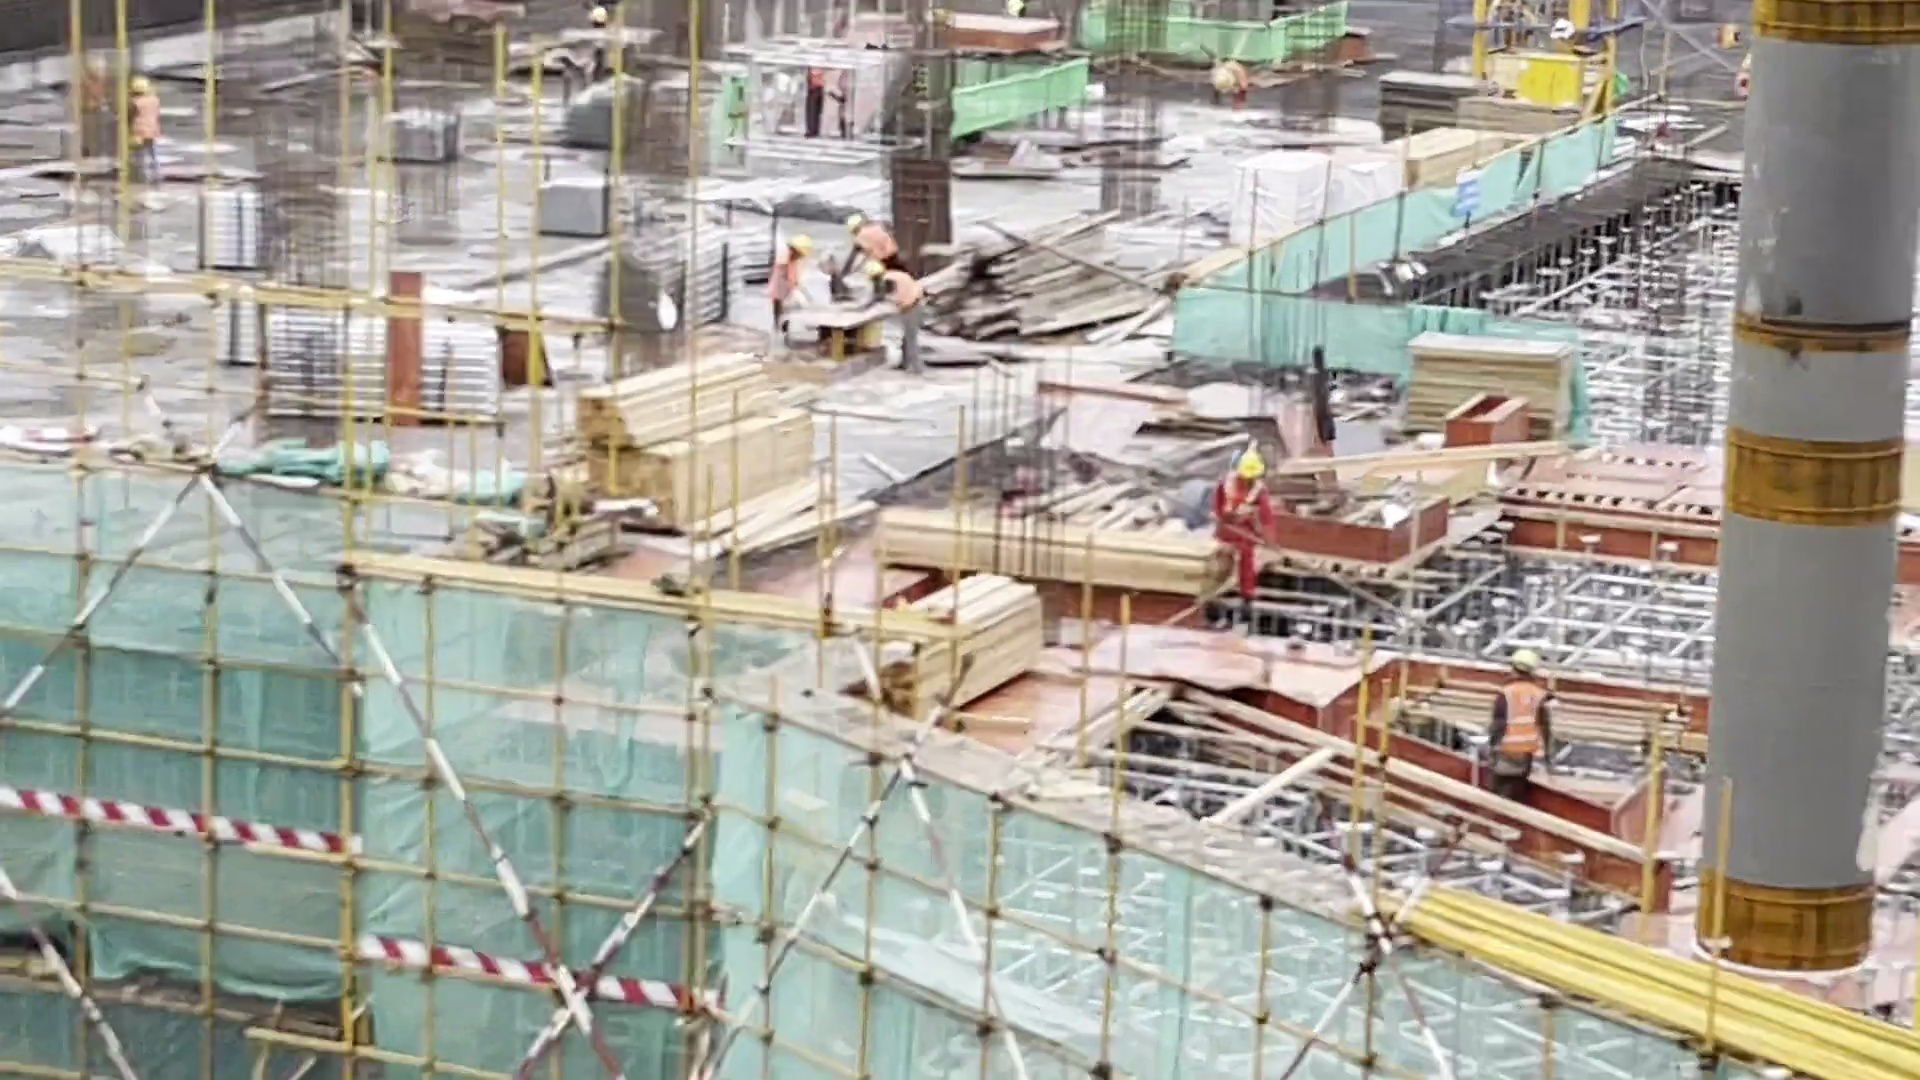ebox: (1515, 47, 1582, 114)
helmet: (1232, 443, 1269, 486), (1505, 651, 1544, 682), (125, 66, 153, 98), (785, 229, 811, 256), (848, 212, 867, 238), (865, 261, 885, 282)
person: (1203, 447, 1286, 626), (1476, 648, 1563, 787), (862, 262, 935, 357), (118, 71, 169, 183), (765, 231, 803, 343), (834, 210, 903, 263)
scaffold: (256, 293, 529, 430), (619, 229, 742, 324), (560, 75, 637, 152), (196, 190, 264, 267), (532, 178, 616, 235), (376, 114, 464, 156), (213, 298, 256, 370)
vest: (1493, 681, 1554, 760), (1221, 488, 1261, 537), (872, 231, 905, 254), (132, 98, 156, 128), (884, 278, 915, 300), (778, 258, 793, 292)
wood: (566, 346, 813, 523), (870, 506, 1212, 588), (880, 571, 1043, 698)
